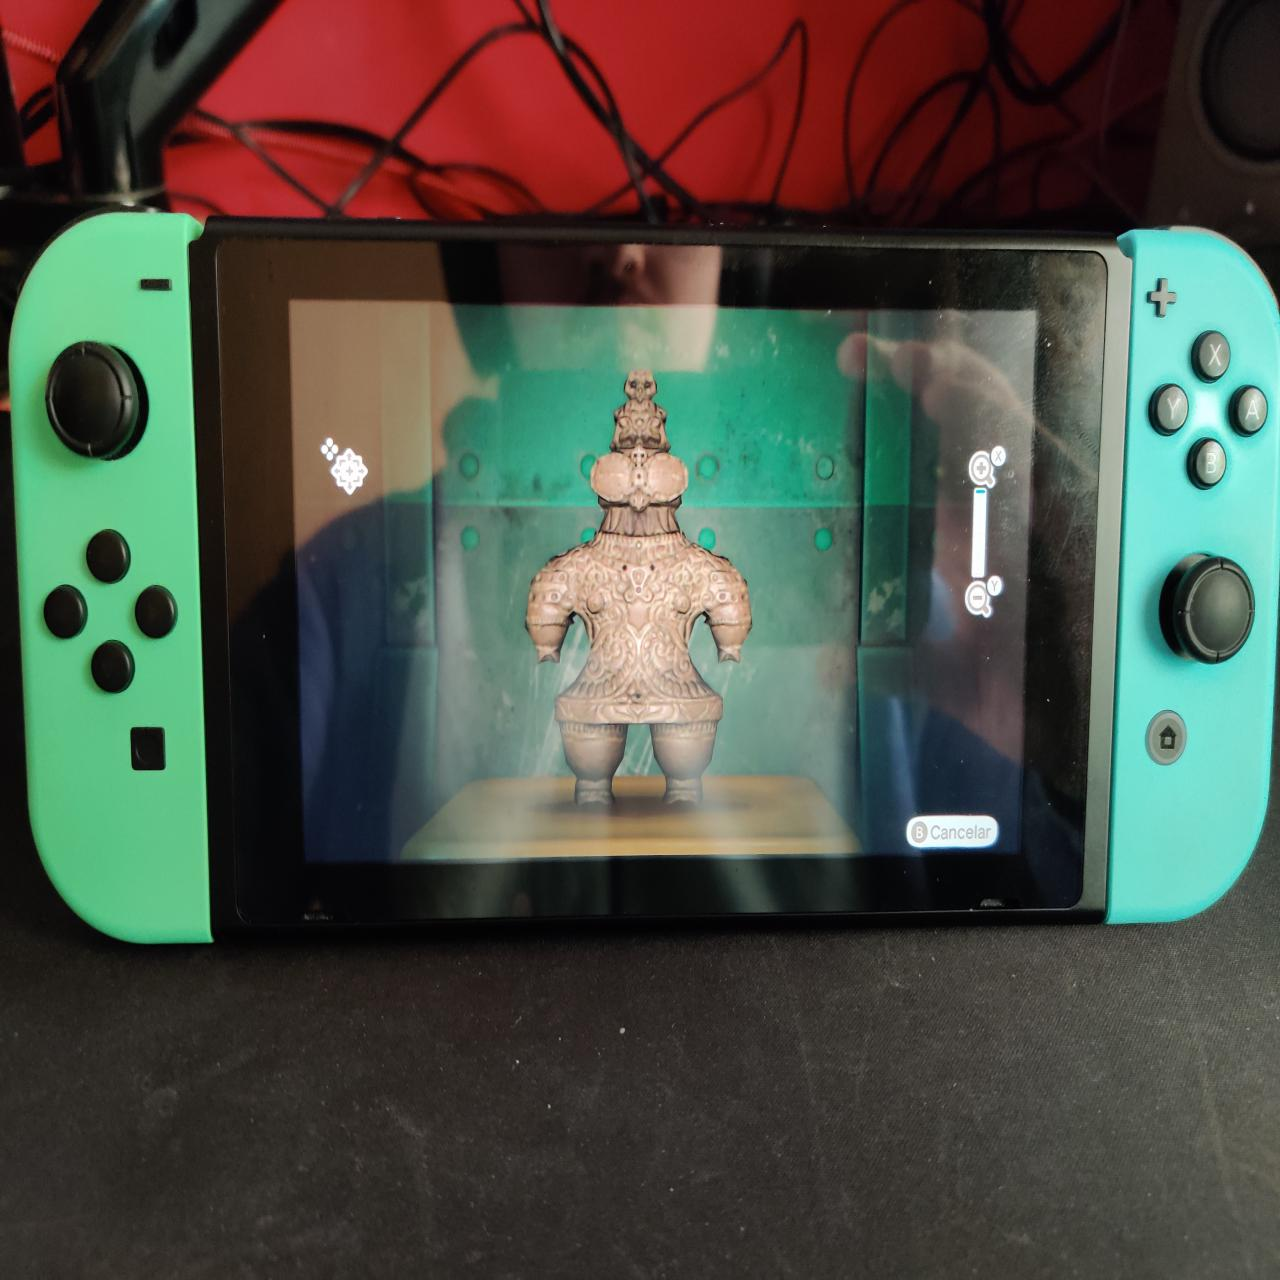Doguu: (527, 354, 756, 819)
